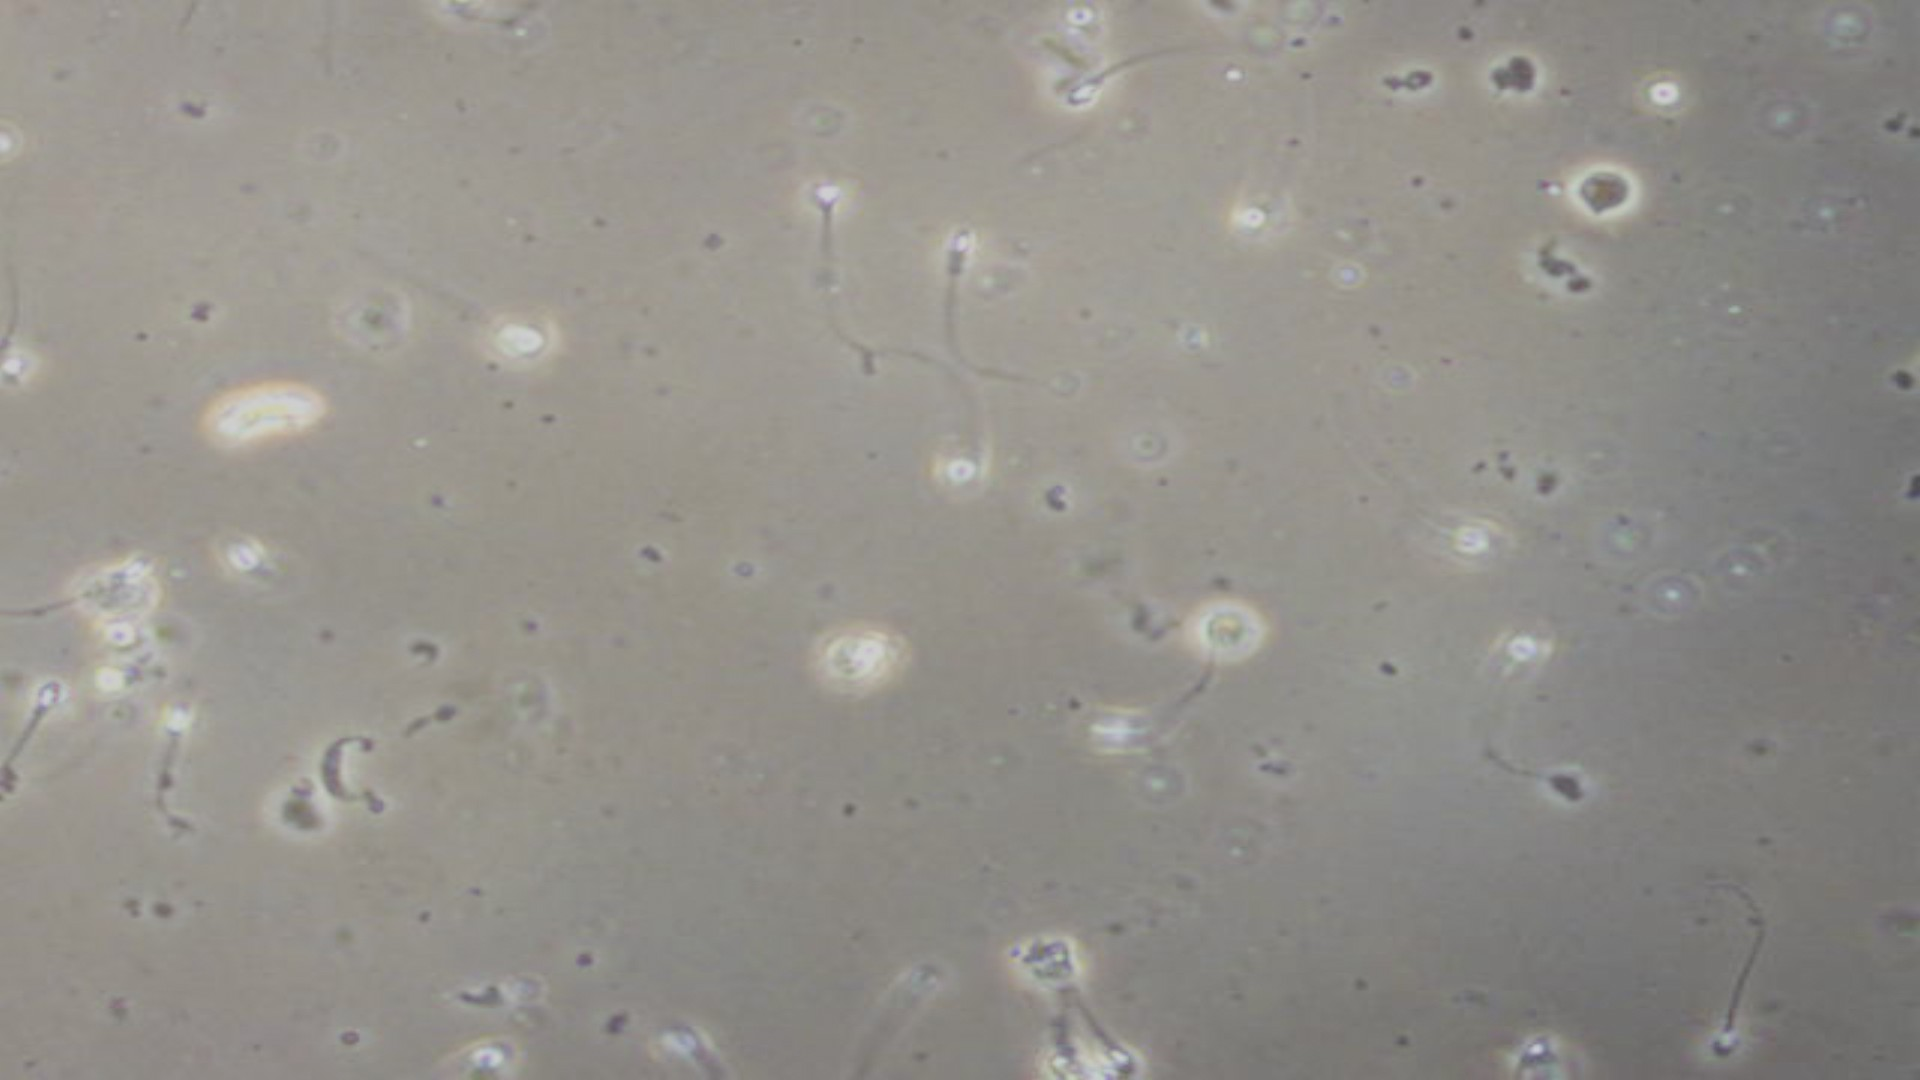sperm: (789, 171, 902, 335), (1072, 692, 1236, 793), (1673, 916, 1775, 1069), (136, 684, 228, 833), (1034, 50, 1171, 123), (924, 218, 996, 356), (1073, 992, 1150, 1073), (13, 674, 74, 777)
